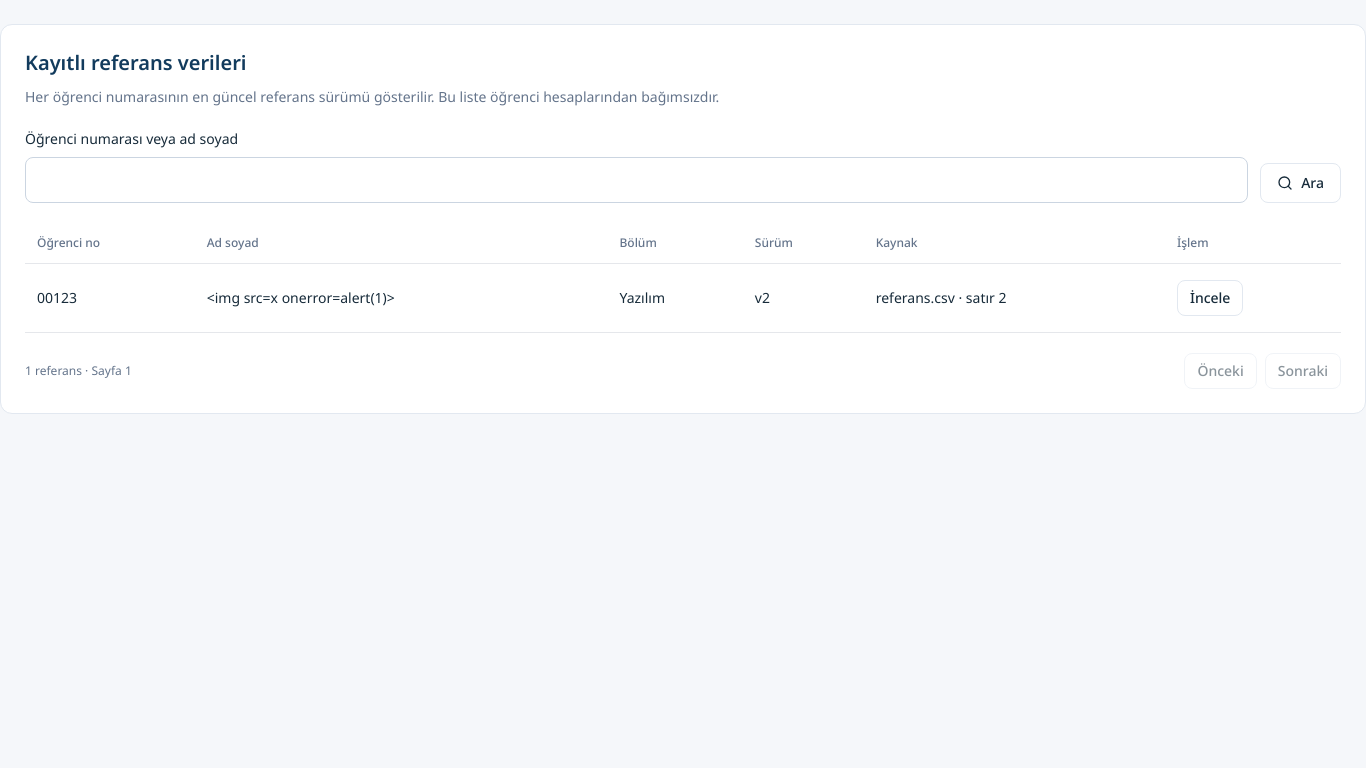
Test: kayıtlı referansı inceler, kimliği maskeler ve HTML adını metin olarak gösterir
This screenshot has width=1366, height=768.
Expected: the text "<img src=x onerror=alert(1)>" is shown, left=195, top=264, right=608, bottom=332
Click the button with aria-label "00123 referansını incele" at x=1210, y=298, box left=1177, top=280, right=1243, bottom=316
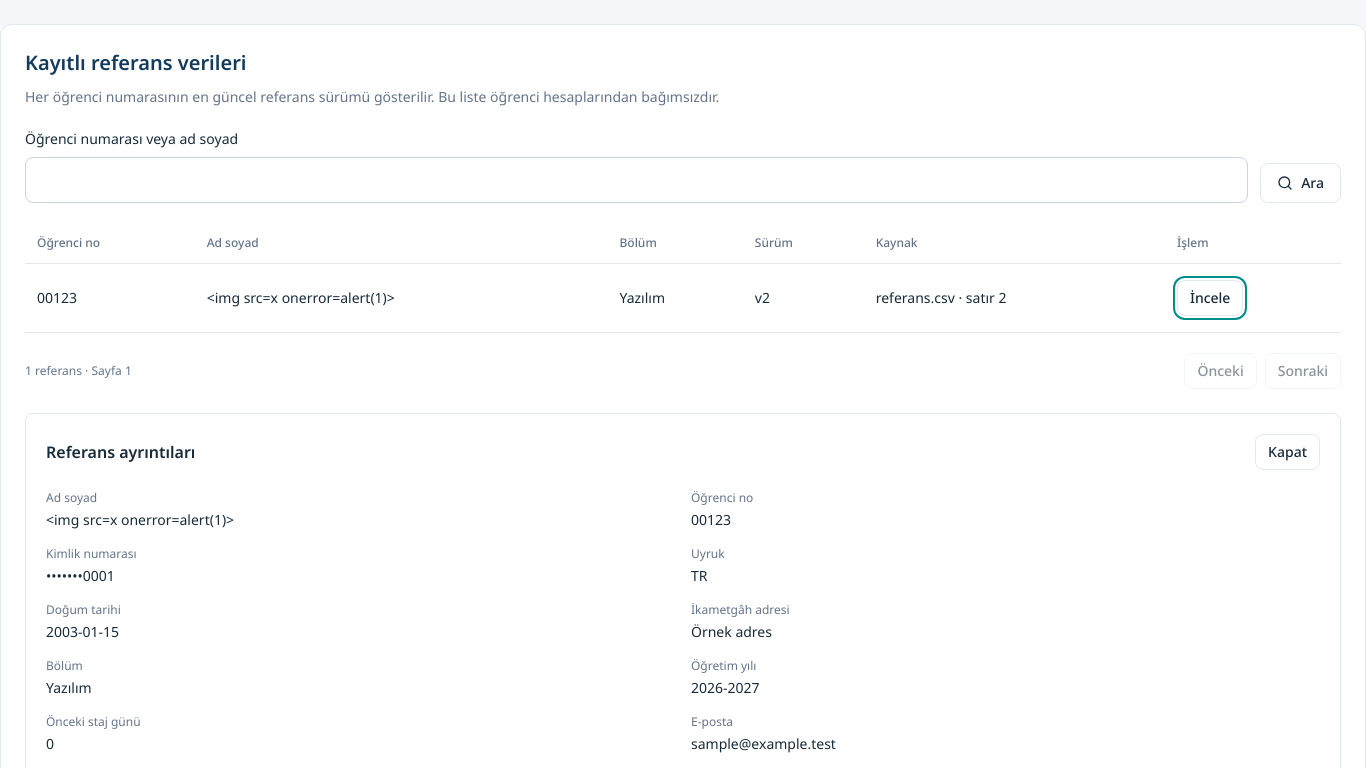
Expected: the text "•••••••0001" is shown, left=46, top=566, right=115, bottom=585
Click the button "Kapat" at x=1288, y=452, box left=1255, top=434, right=1320, bottom=470
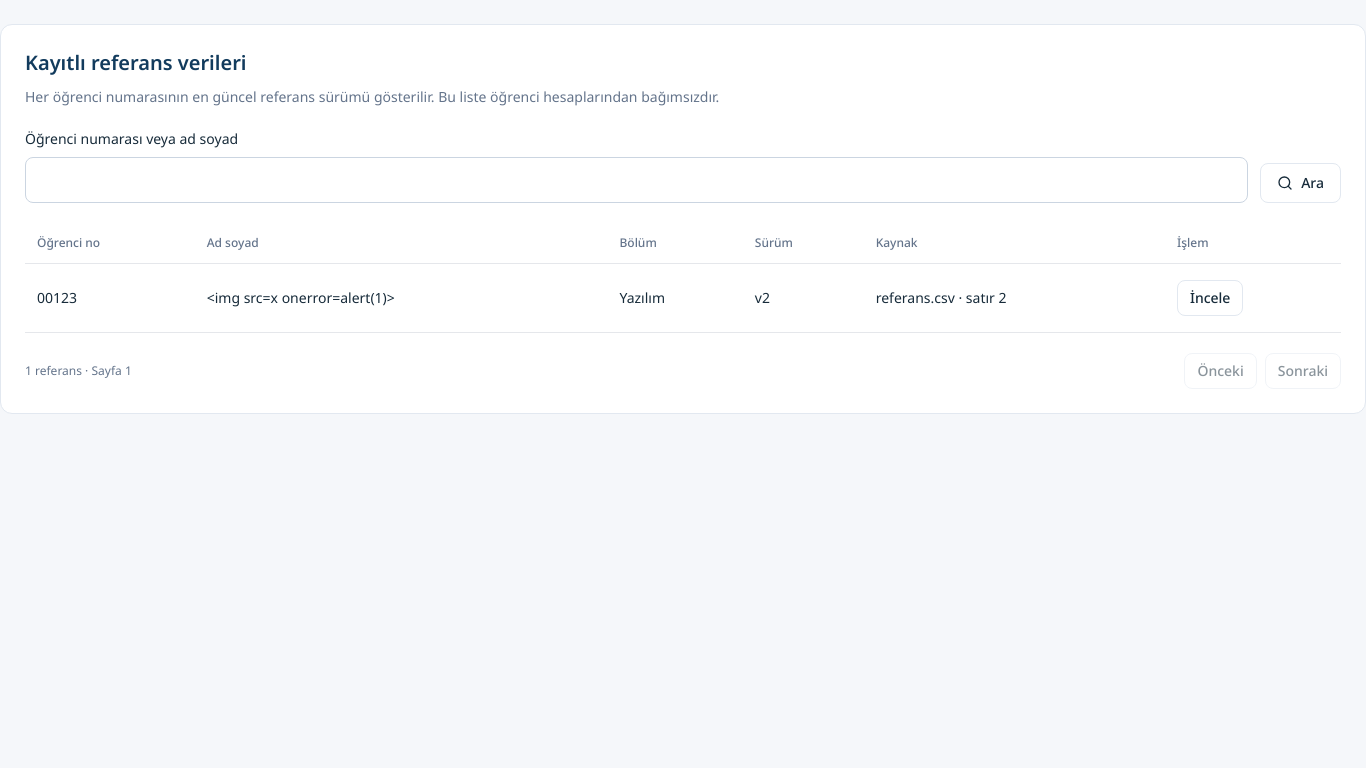
Expected: the heading "Referans ayrıntıları" is gone
